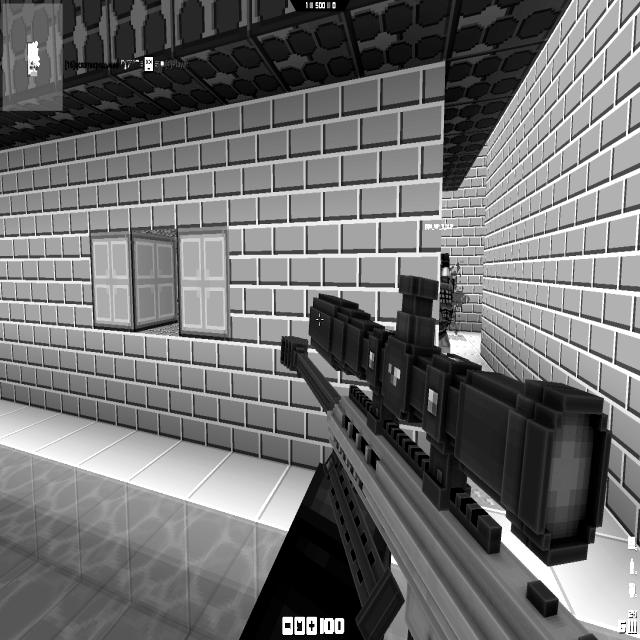Head: (440, 252, 450, 278)
Player: (438, 251, 454, 354)
